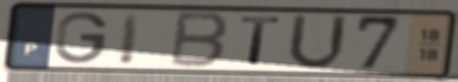7: (353, 12, 404, 74)
B: (166, 9, 232, 71)
G: (52, 10, 111, 66)
I: (116, 10, 145, 67)
T: (238, 14, 284, 68)
U: (284, 12, 350, 73)
